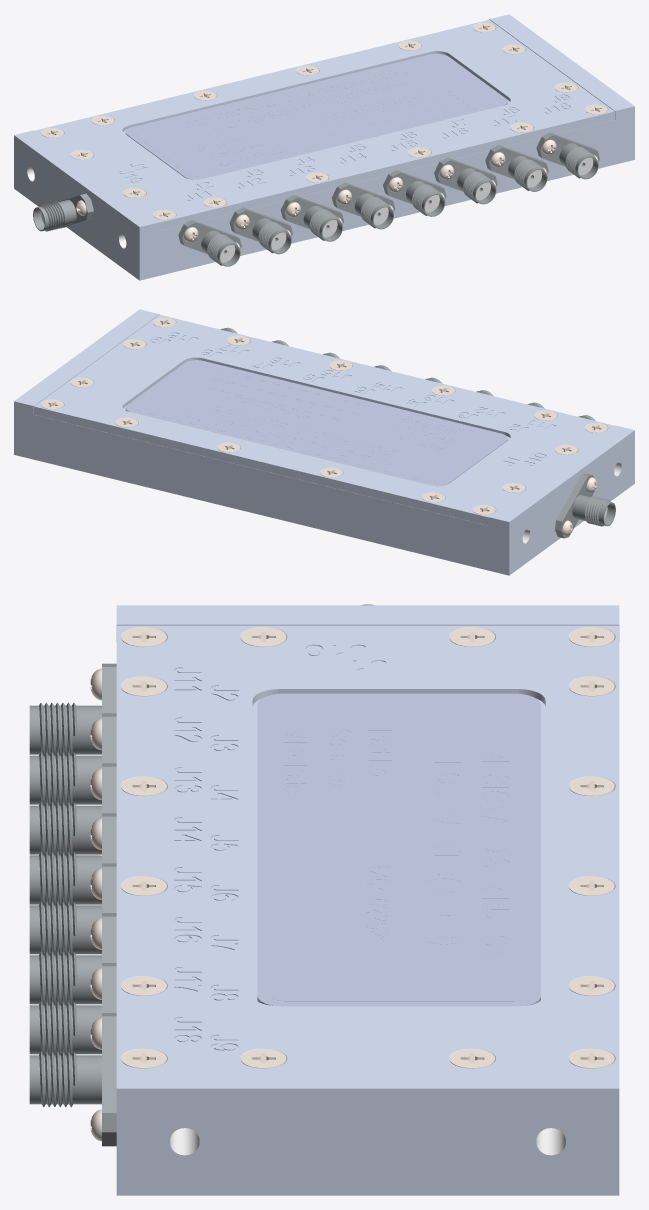
File: Divide_B_260513.glb
3 renders of one model, top to bottom at view 1: azimuth 30°, elevation 25°; view 2: azimuth 150°, elevation 25°; view 3: azimuth 270°, elevation 25°, orthographic. The views are drawn at different scales.
Parts seen in each view (by area): view 1: 국부신호분배장치B_덮개_260513-1, 명판_RF신호분배장치B용-1, 국부신호분배장치B_몸체_260513-1, 국부신호분배장치B_260513, OS1244-H51-01-6, OS1244-H51-01-9; view 2: 국부신호분배장치B_덮개_260513-1, 국부신호분배장치B_몸체_260513-1, 명판_RF신호분배장치B용-1, 국부신호분배장치B_260513, OS1244-H51-01-9; view 3: 국부신호분배장치B_덮개_260513-1, 명판_RF신호분배장치B용-1, 국부신호분배장치B_몸체_260513-1, 국부신호분배장치B_260513, OS1244-H51-01-6.
Part boxes in pixels (x1,y1,x2,y2): 국부신호분배장치B_덮개_260513-1: [35, 19, 614, 230]; 명판_RF신호분배장치B용-1: [125, 53, 507, 179]; 국부신호분배장치B_몸체_260513-1: [14, 14, 634, 280]; 국부신호분배장치B_260513: [41, 22, 607, 266]; OS1244-H51-01-6: [434, 157, 497, 204]; OS1244-H51-01-9: [33, 193, 93, 231]; 국부신호분배장치B_덮개_260513-1: [34, 314, 613, 525]; 국부신호분배장치B_몸체_260513-1: [14, 309, 634, 575]; 명판_RF신호분배장치B용-1: [125, 360, 507, 486]; 국부신호분배장치B_260513: [41, 317, 607, 514]; OS1244-H51-01-9: [555, 473, 615, 538]; 국부신호분배장치B_덮개_260513-1: [117, 625, 618, 1069]; 명판_RF신호분배장치B용-1: [257, 693, 540, 1006]; 국부신호분배장치B_몸체_260513-1: [116, 605, 619, 1195]; 국부신호분배장치B_260513: [29, 627, 614, 1146]; OS1244-H51-01-6: [29, 913, 116, 1005].
Bounding box in the file's own units: 0.1344 × 0.0129 × 0.0644.
